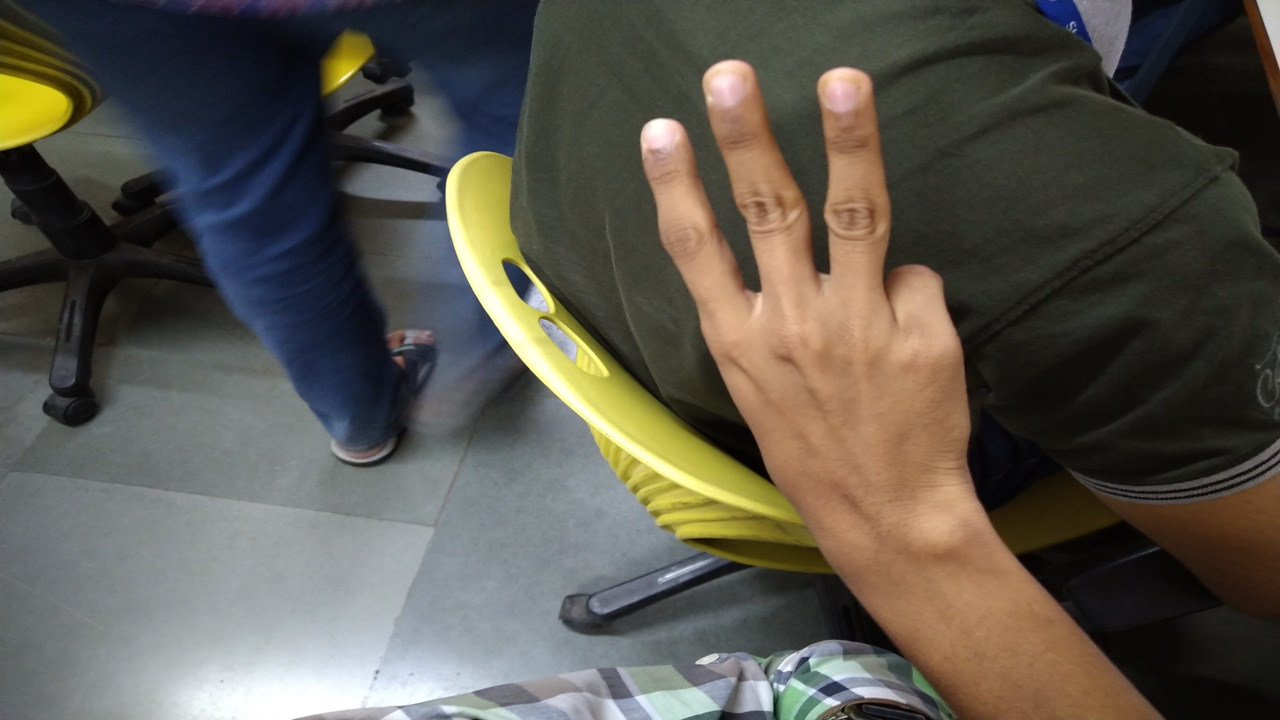fingertip: (634, 112, 694, 176), (814, 62, 882, 118), (700, 54, 762, 114)
